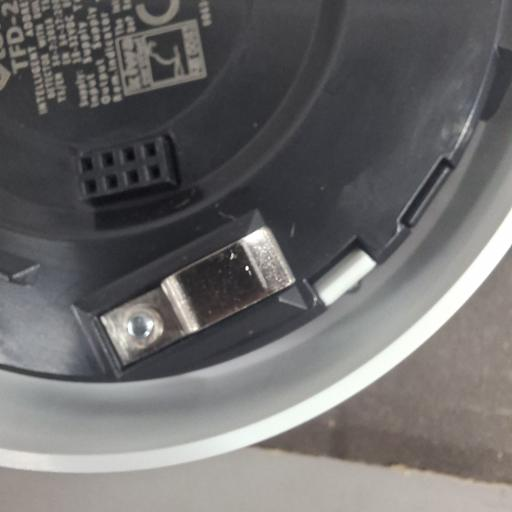yaysiz: (92, 224, 300, 370)
